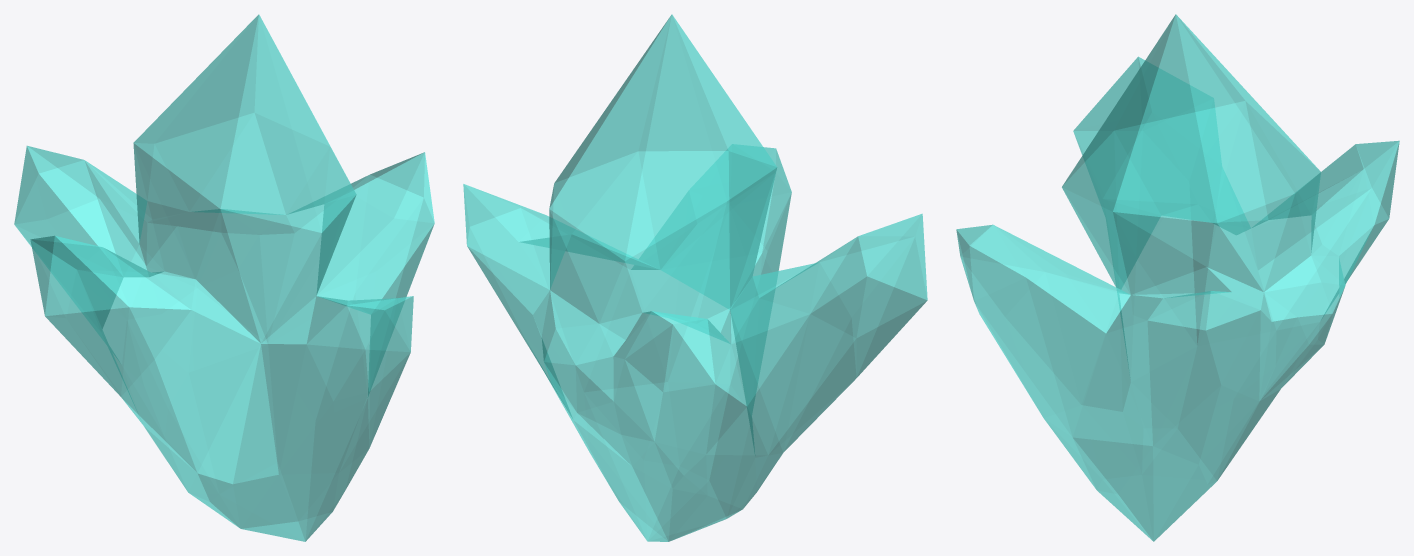
Rendered from CrystalCluster.fbx.
3 renders of one model, left to right at view 1: azimuth 30°, elevation 25°; view 2: azimuth 150°, elevation 25°; view 3: azimuth 270°, elevation 25°, orthographic. The views are drawn at different scales.
Parts seen in each view (by area): view 1: Crystals01; view 2: Crystals01; view 3: Crystals01.
Boxes of the visible parts, bbox=[...] form: Crystals01: bbox=[14, 14, 434, 541]; Crystals01: bbox=[463, 14, 927, 541]; Crystals01: bbox=[956, 14, 1399, 541].
Size of the model in its own units: 6.78 by 8.25 by 6.48.
